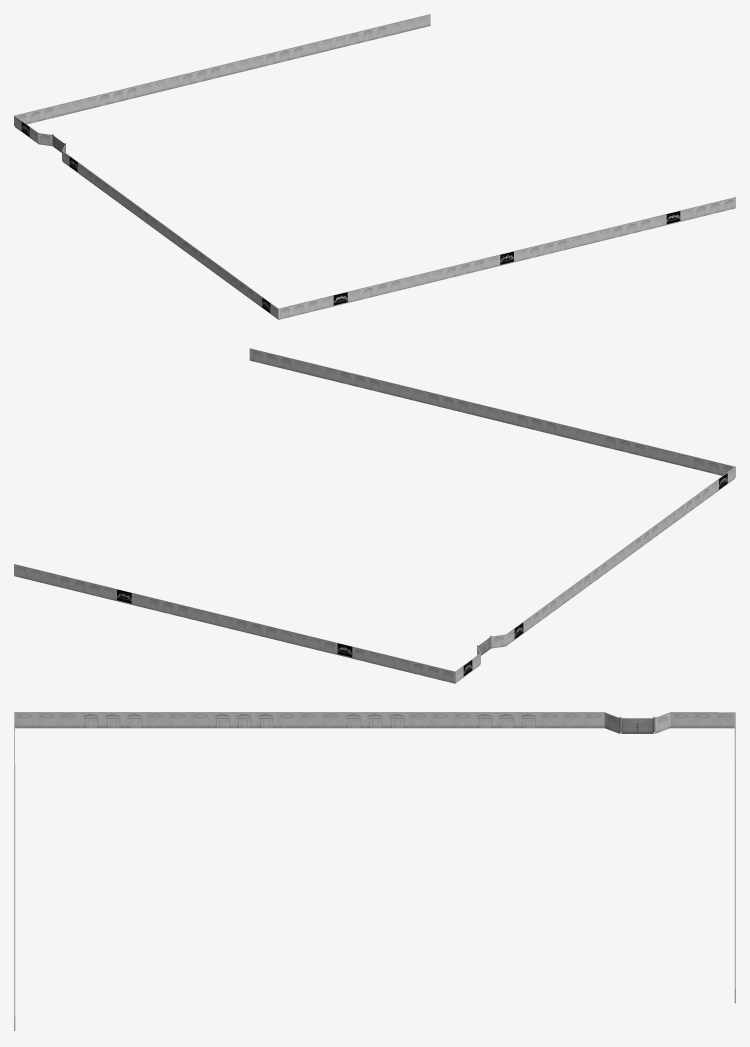
File: csrsfence01_lvs.obj
3 views of the same model, one above another, from view 1: azimuth 30°, elevation 25°; view 2: azimuth 150°, elevation 25°; view 3: azimuth 270°, elevation 25° (orthographic). The views are drawn at different scales.
Visible parts, largest first — view 1: csrsfence01_lvs; view 2: csrsfence01_lvs; view 3: csrsfence01_lvs.
Boxes of the visible parts, <box> form: csrsfence01_lvs: <box>14,14,735,319</box>; csrsfence01_lvs: <box>14,348,735,683</box>; csrsfence01_lvs: <box>14,712,735,1030</box>.
Size of the model in its own units: 220 by 5.85 by 220.
Materials: 6 (6 with a texture image).
